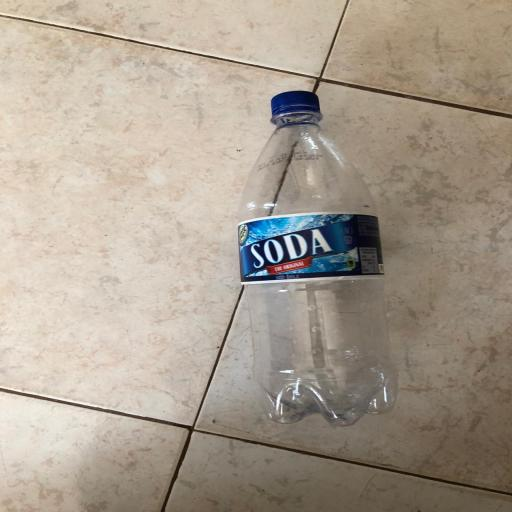waste: (236, 77, 418, 440)
